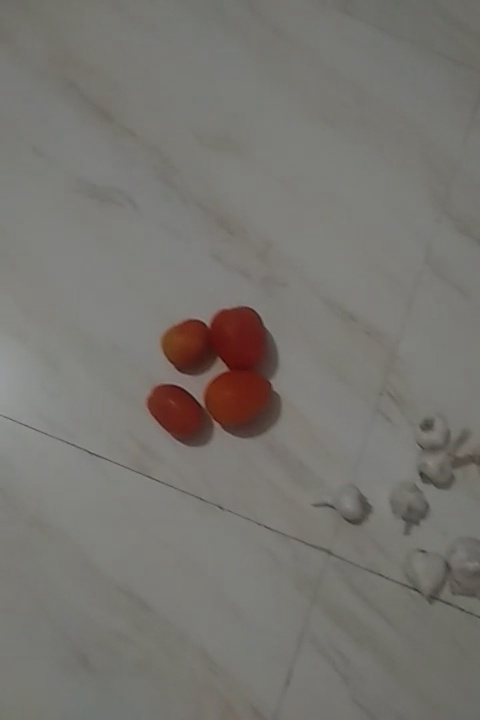garlic: (399, 547, 447, 602), (443, 535, 480, 597), (315, 487, 376, 523), (392, 480, 428, 523), (412, 453, 456, 487), (415, 419, 450, 449)
tomato: (144, 383, 215, 443), (207, 305, 268, 372), (195, 373, 266, 422), (160, 321, 209, 371)
